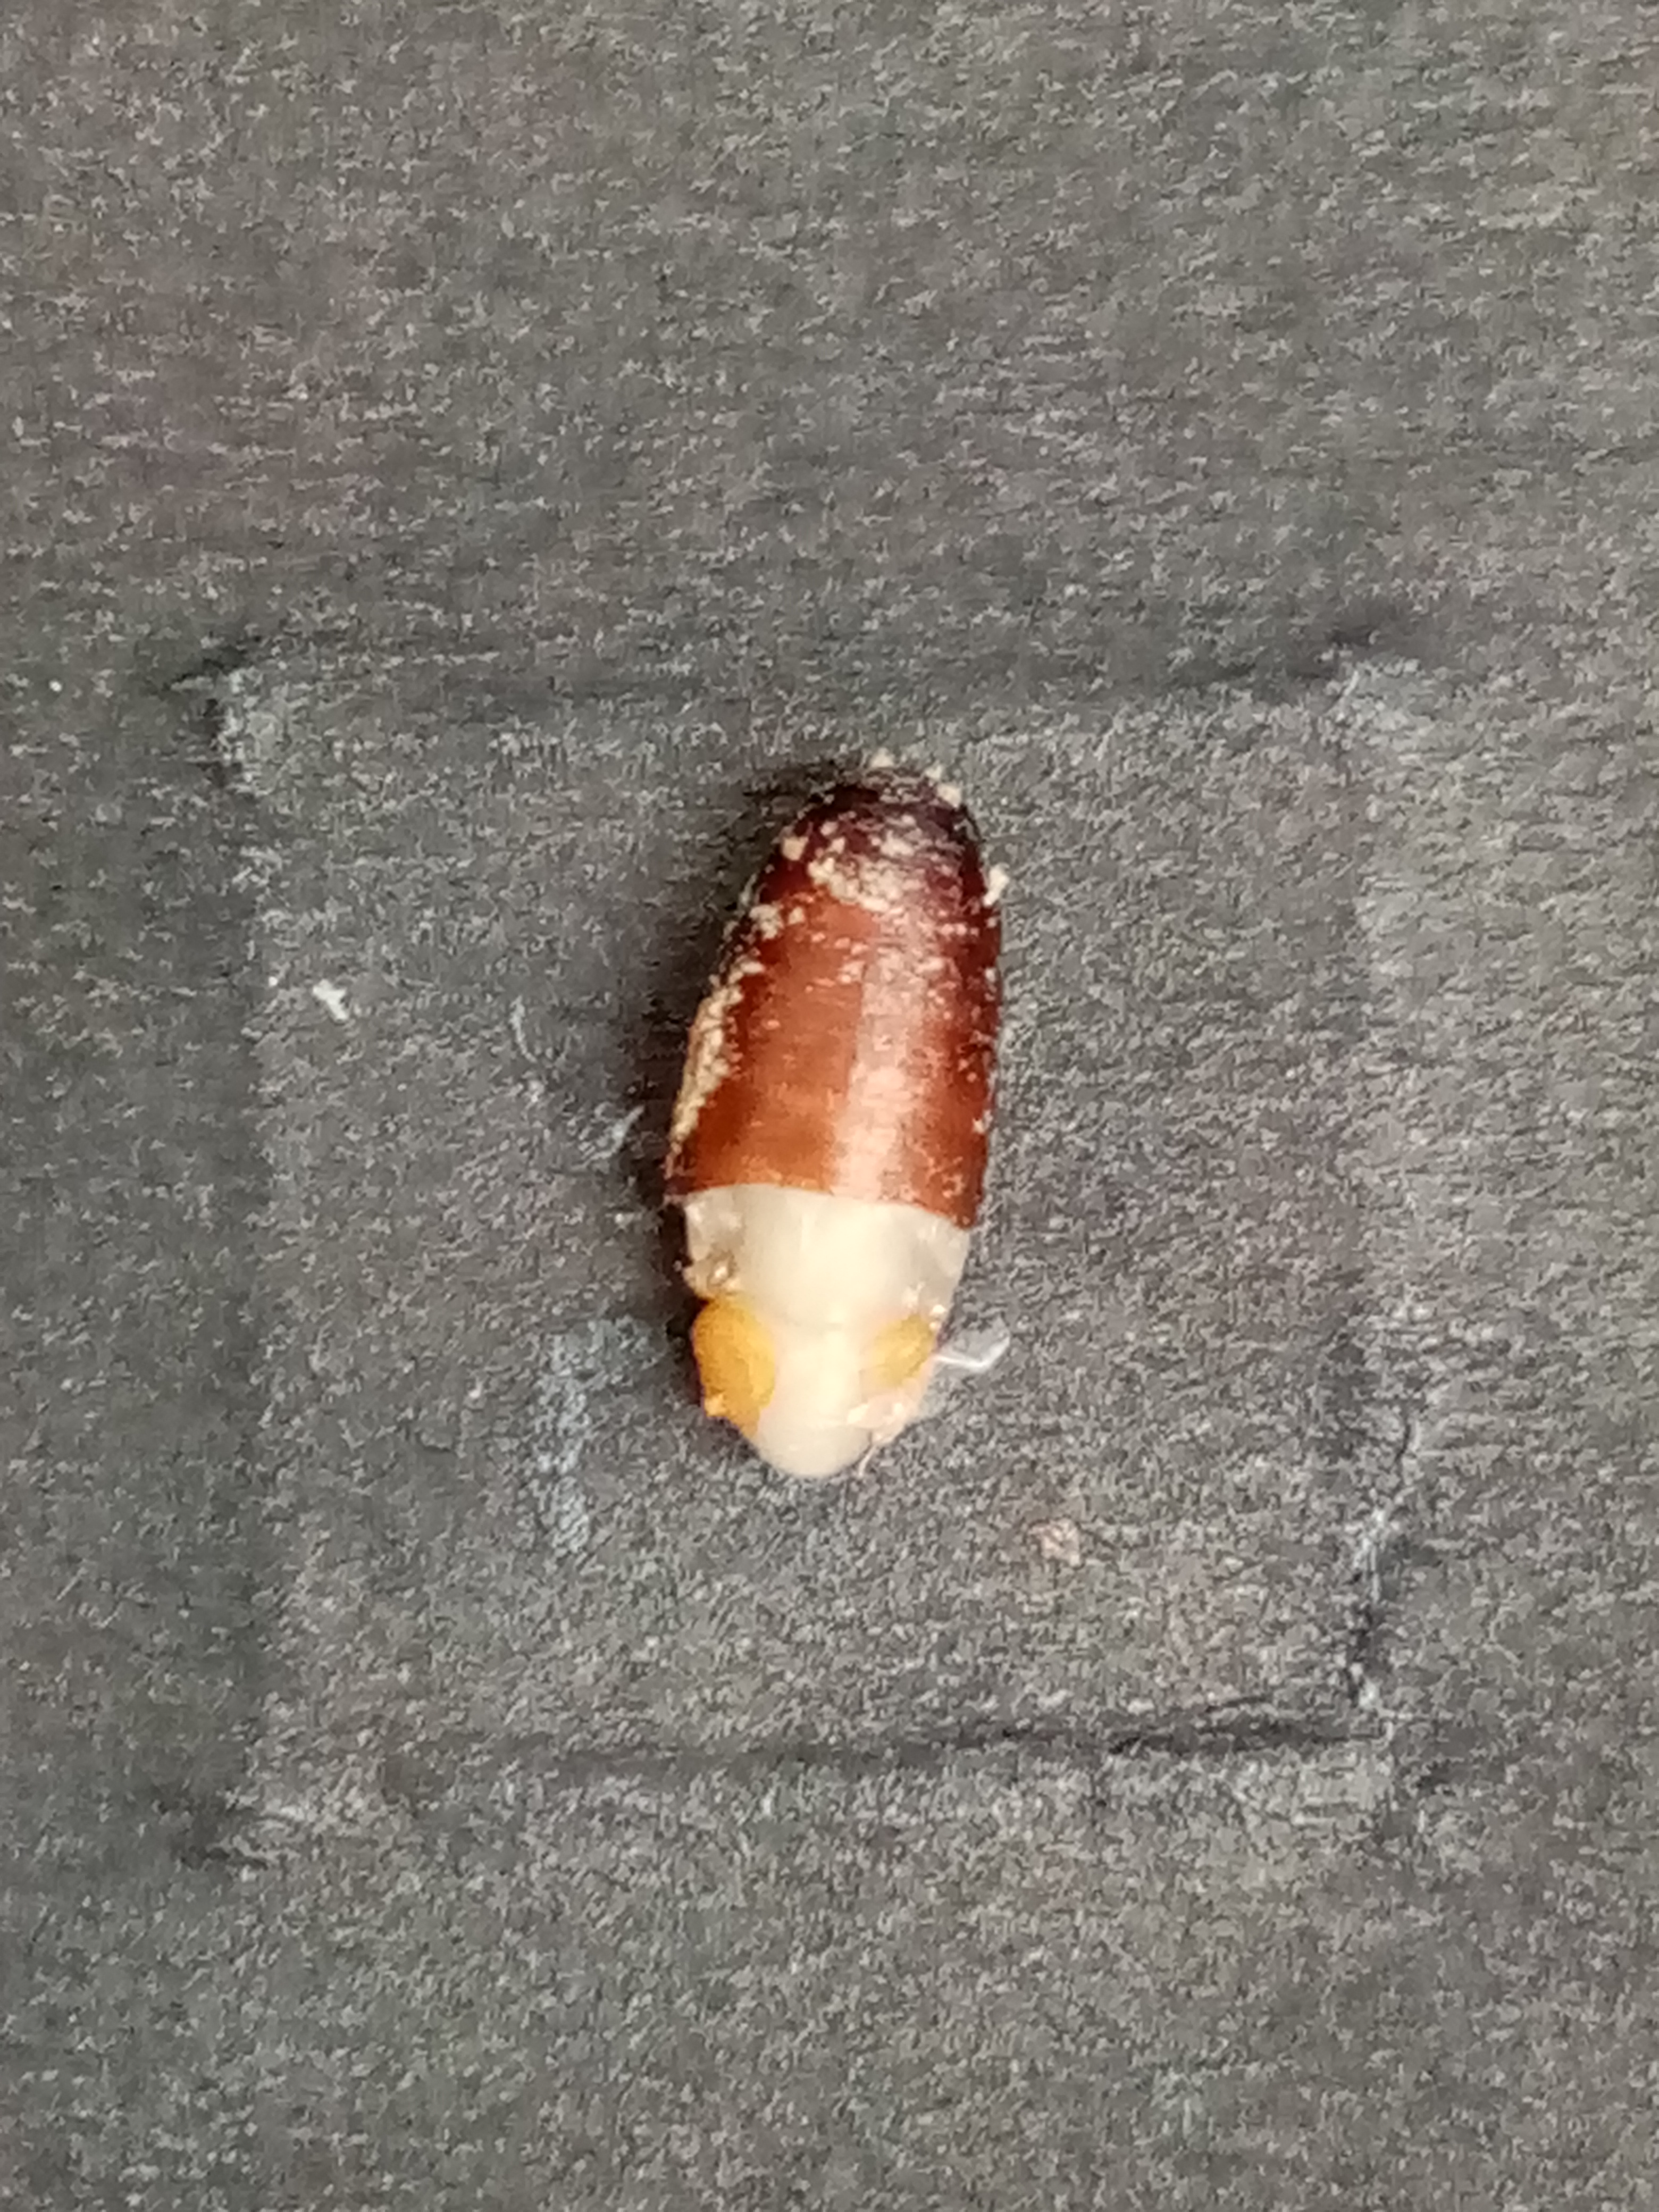pupa: (687, 1264, 955, 1477)
